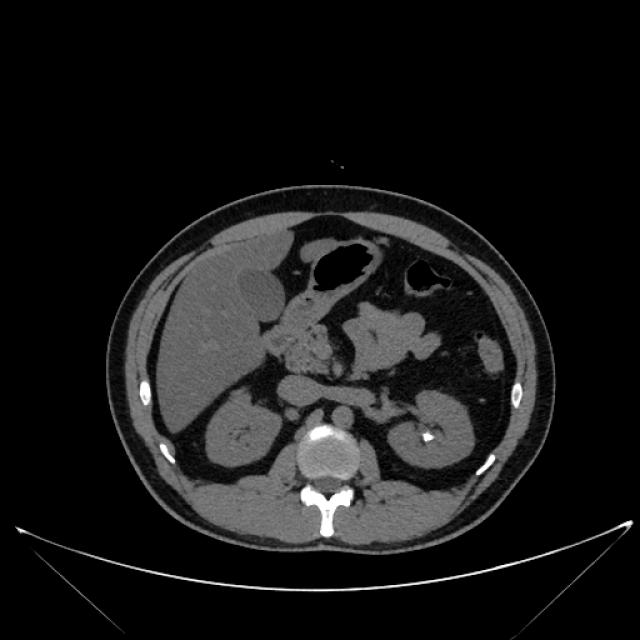kidneystone: (421, 431, 435, 443)
